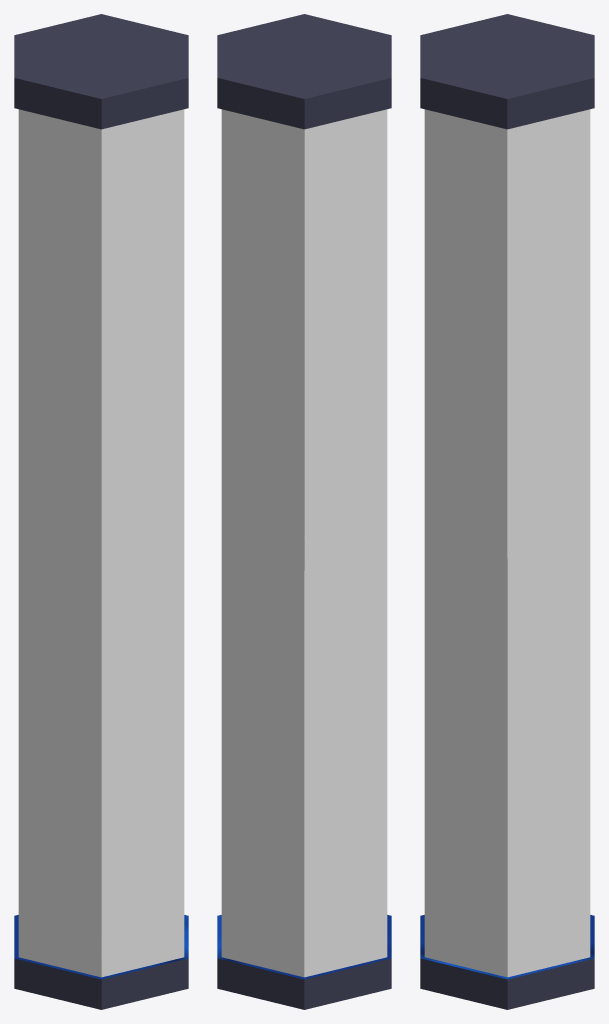
File: lightpot lrg.FBX
3 views of the same model, side by side, from view 1: azimuth 30°, elevation 25°; view 2: azimuth 150°, elevation 25°; view 3: azimuth 270°, elevation 25° (orthographic).
Visible parts, largest first — view 1: Cylinder001; view 2: Cylinder001; view 3: Cylinder001.
Boxes of the visible parts, x1,y1,x2,y2 form: Cylinder001: (14,14,188,1009); Cylinder001: (217,14,391,1009); Cylinder001: (420,14,594,1009).
Size of the model in its own units: 20 by 99.86 by 17.32.
